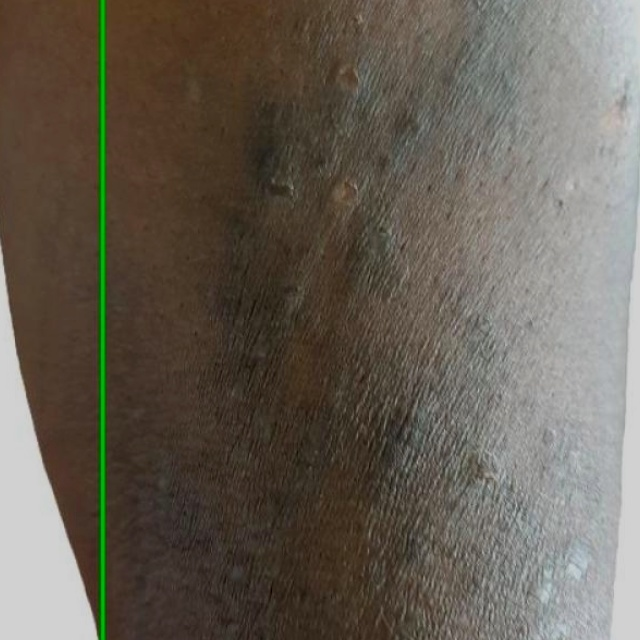Contact Dermatitis: (0, 0, 102, 639)
